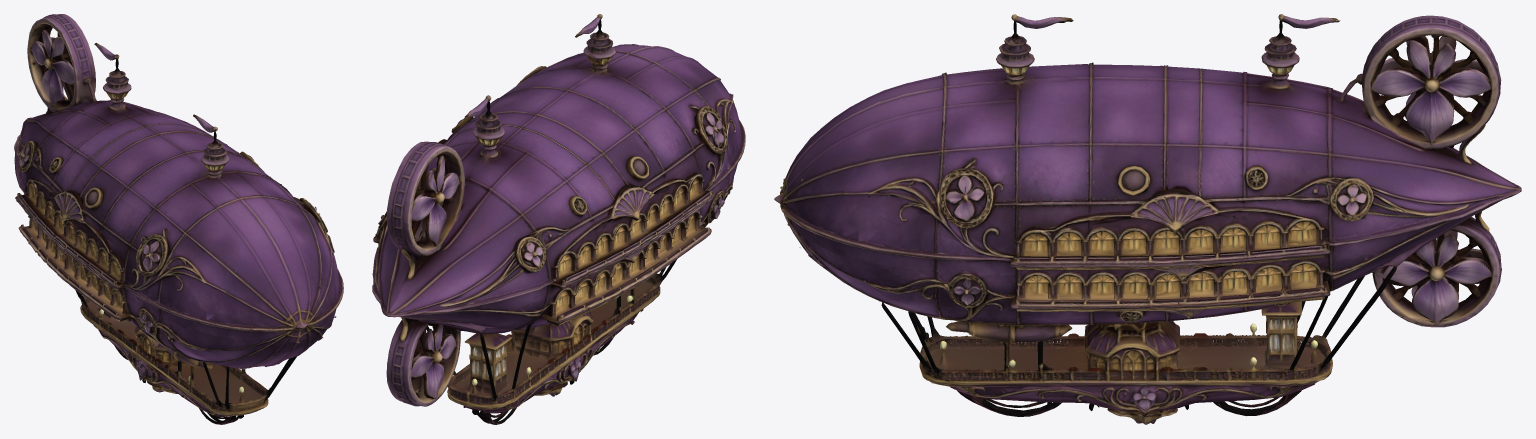
3 views of the same model, side by side, from view 1: azimuth 30°, elevation 25°; view 2: azimuth 150°, elevation 25°; view 3: azimuth 270°, elevation 25° (orthographic). The views are drawn at different scales.
Visible parts, largest first — view 1: geometry_0; view 2: geometry_0; view 3: geometry_0.
Part boxes in pixels (left/top/right/bottom): geometry_0: left=14, top=14, right=343, bottom=424; geometry_0: left=372, top=14, right=745, bottom=424; geometry_0: left=774, top=14, right=1521, bottom=424.
Bounding box in the file's own units: 0.4267 × 0.597 × 0.9999.
Materials: 1 (1 with a texture image).
